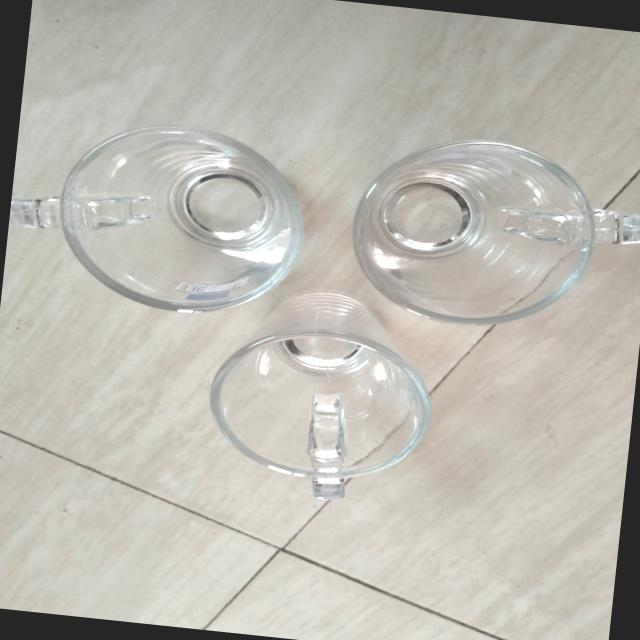glass-VX4N: (1, 112, 316, 330), (339, 124, 640, 341), (186, 279, 446, 513)
